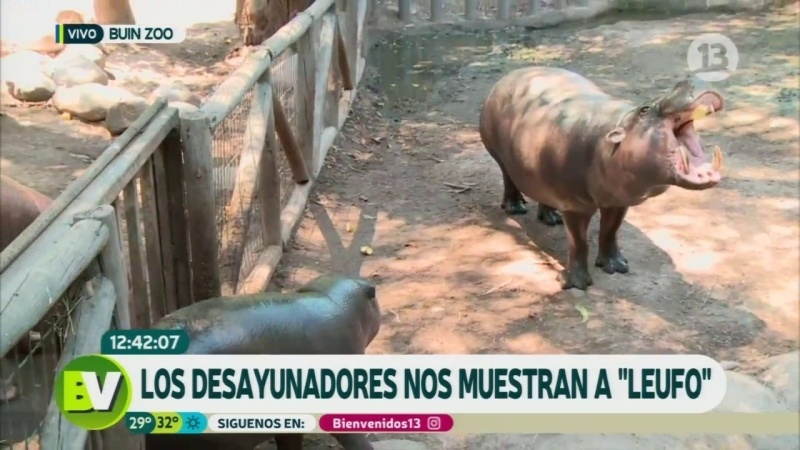hipopotamo: (470, 57, 743, 313), (134, 248, 388, 358)
